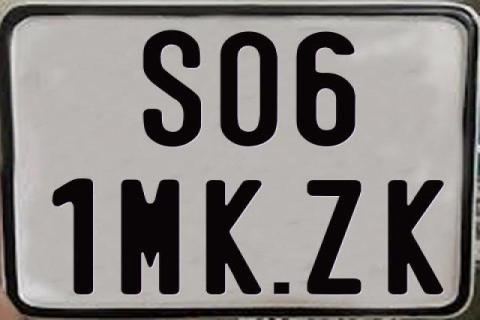0: (293, 31, 355, 149), (219, 30, 280, 146), (50, 178, 94, 294)
K: (206, 179, 265, 293), (386, 180, 442, 296)
M: (119, 179, 179, 297)
S: (143, 30, 205, 150)
Z: (306, 178, 365, 296)
